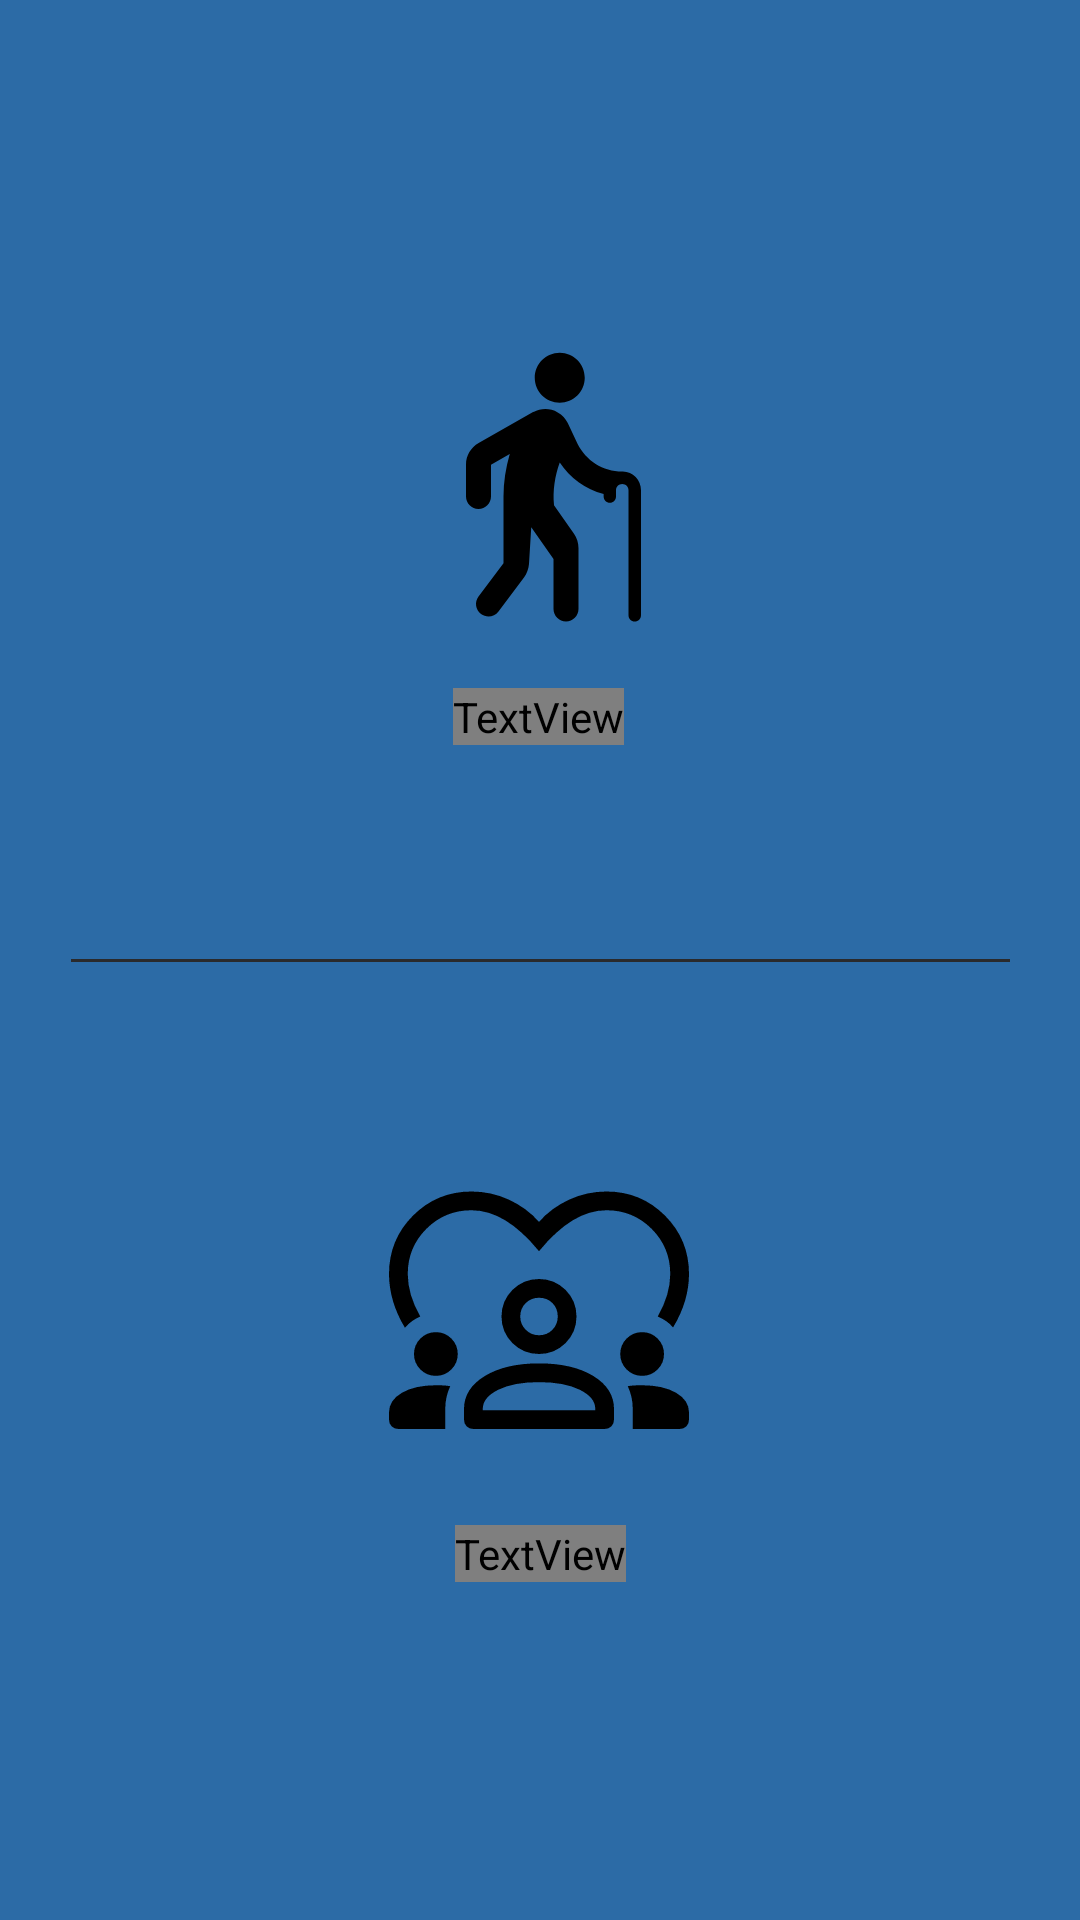

Named icons in this screenshot (1080*1920) and their bounding boxes, (x1, y1, x2, y2):
diversity: (389, 1191, 689, 1429)
elderly: (466, 352, 641, 622)
